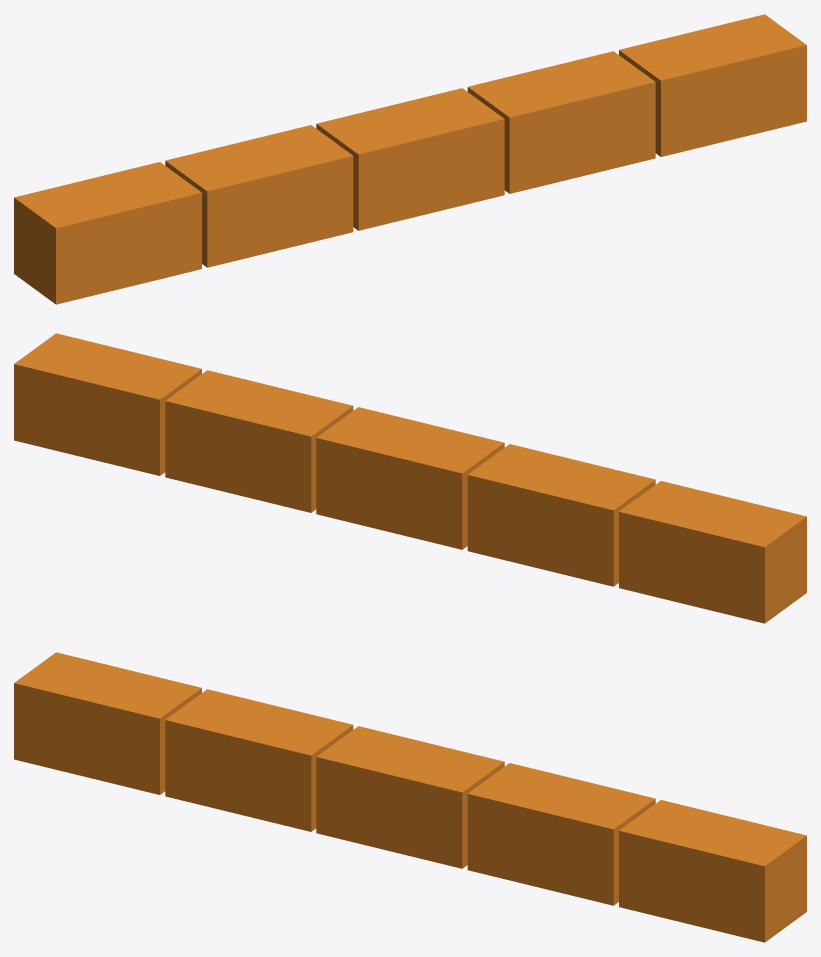
The model's file is Decoration.fbx.
The picture shows the model from 3 angles, top to bottom: view 1: azimuth 30°, elevation 25°; view 2: azimuth 150°, elevation 25°; view 3: azimuth 330°, elevation 25°; orthographic projection.
Parts seen in each view (by area): view 1: Decoration; view 2: Decoration; view 3: Decoration.
Part boxes in pixels (x1,y1,x2,y2): Decoration: [14, 14, 806, 304]; Decoration: [14, 333, 806, 623]; Decoration: [14, 652, 806, 942].
Size of the model in its own units: 1598 by 155 by 155.
